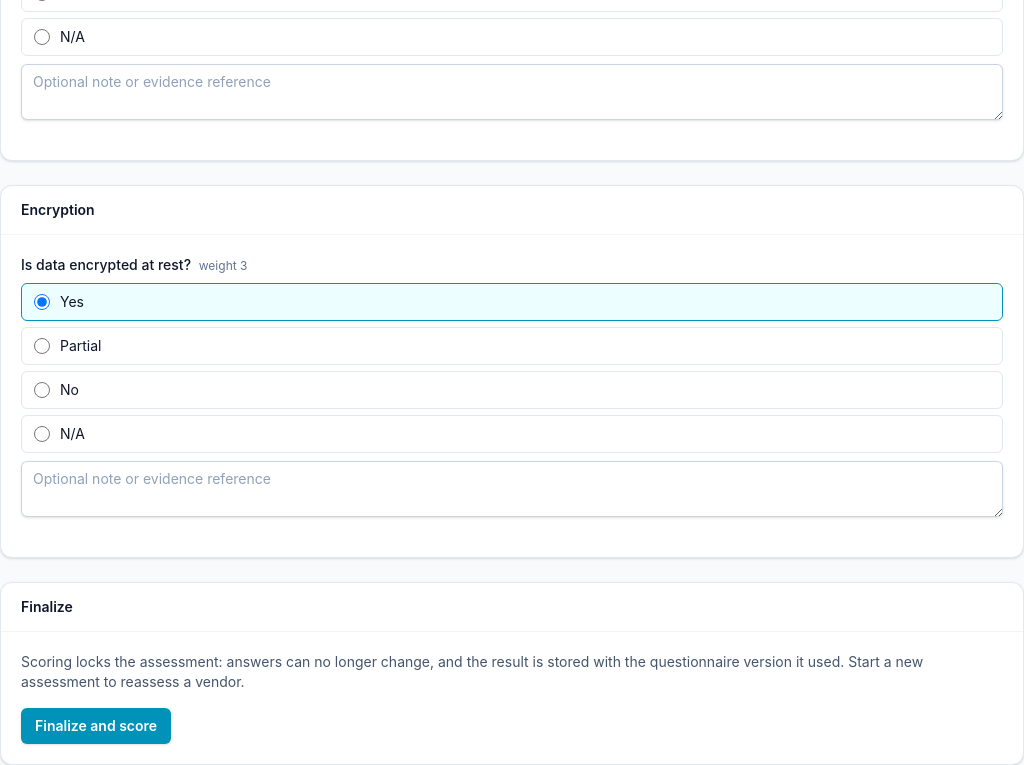
Answering and scoring › highlights questions the server says are unanswered
(page scrolled)
Click the button "Finalize and score" at [96, 726], box [21,708,171,744]
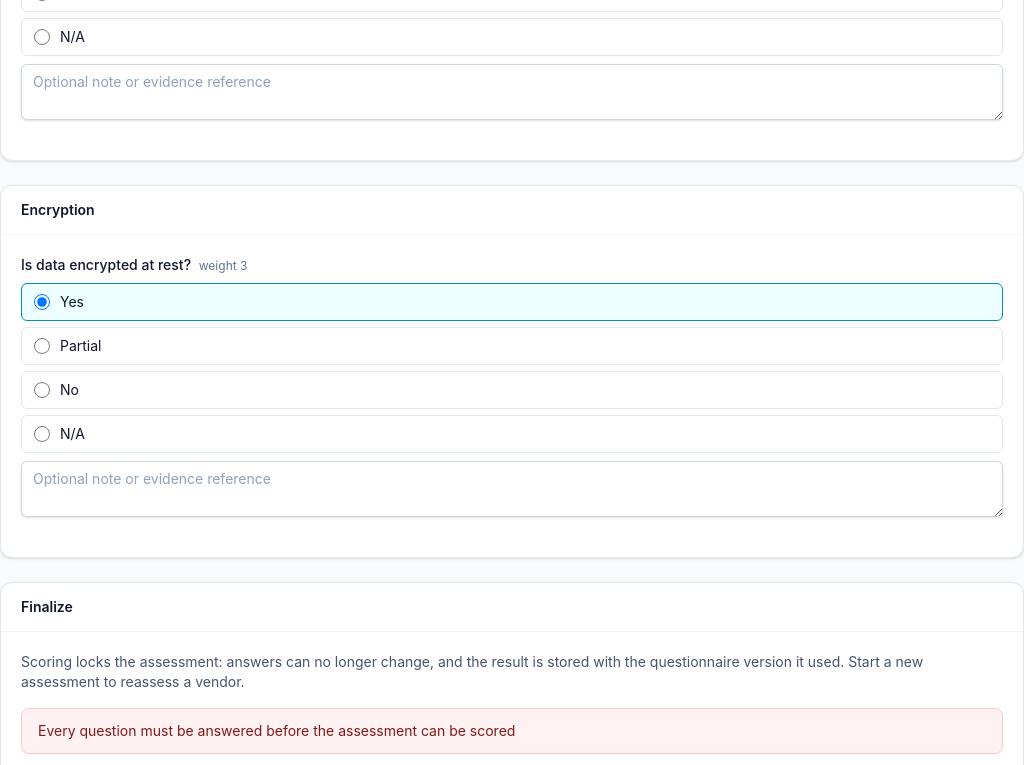
Check: the message shows "Every question must be answered", box [38,722,515,739]
